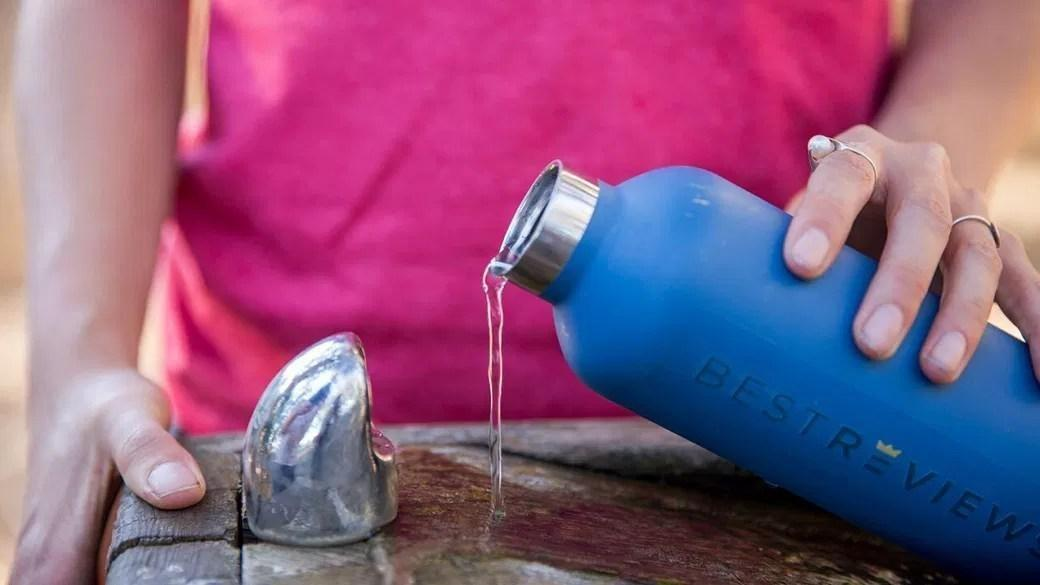gym bottle: (497, 160, 1039, 581)
